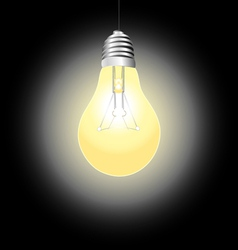bulb: (75, 31, 160, 180)
